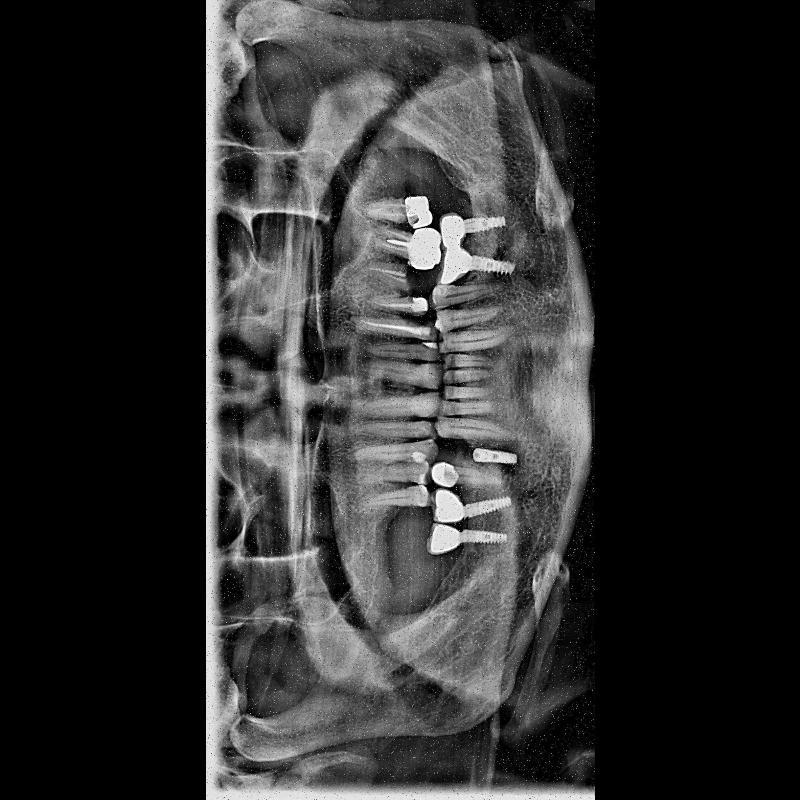osstem: (458, 207, 510, 238), (472, 244, 520, 276), (472, 440, 524, 468), (462, 492, 516, 518), (463, 524, 513, 548)
